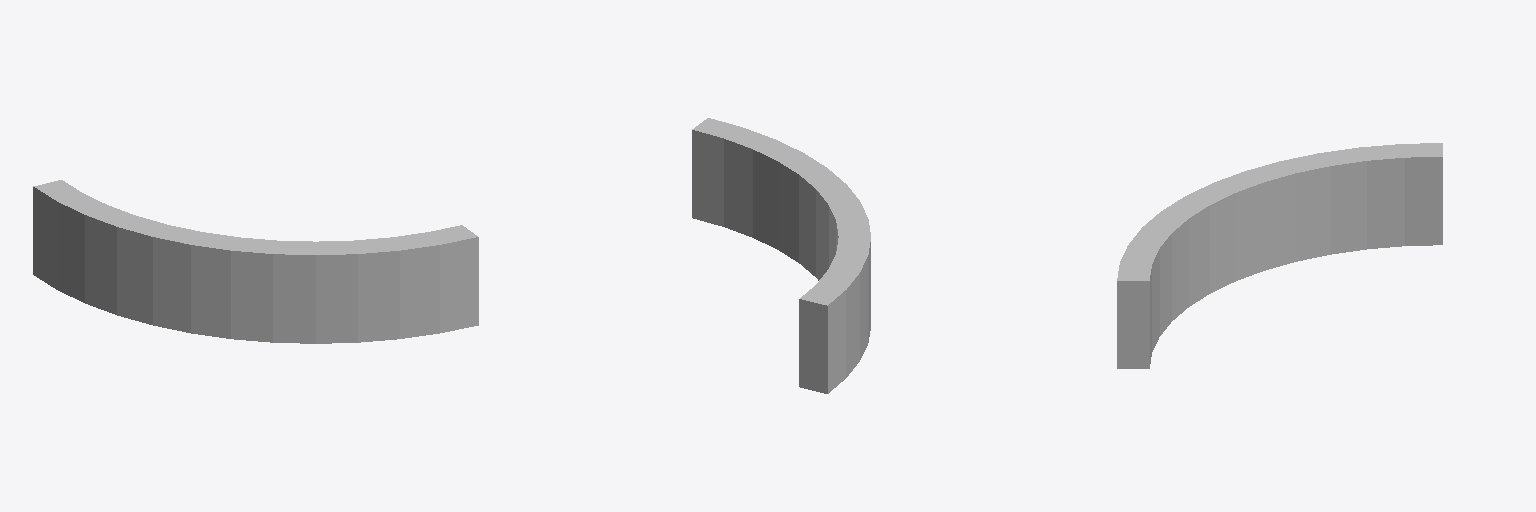
Rendered from CornerWall.obj.
The picture shows the model from 3 angles: view 1: azimuth 30°, elevation 25°; view 2: azimuth 150°, elevation 25°; view 3: azimuth 270°, elevation 25°; orthographic projection.
Parts seen in each view (by area): view 1: CornerWall; view 2: CornerWall; view 3: CornerWall.
Boxes of the visible parts, box(x1,y1,x2,y2) form: CornerWall: box(33, 180, 478, 343); CornerWall: box(692, 118, 870, 393); CornerWall: box(1117, 143, 1442, 368).
Bounding box in the file's own units: 2 × 0.6 × 2.